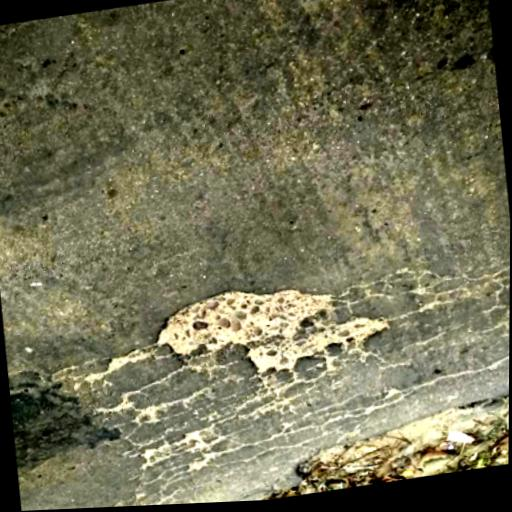pothole: (150, 267, 399, 396)
